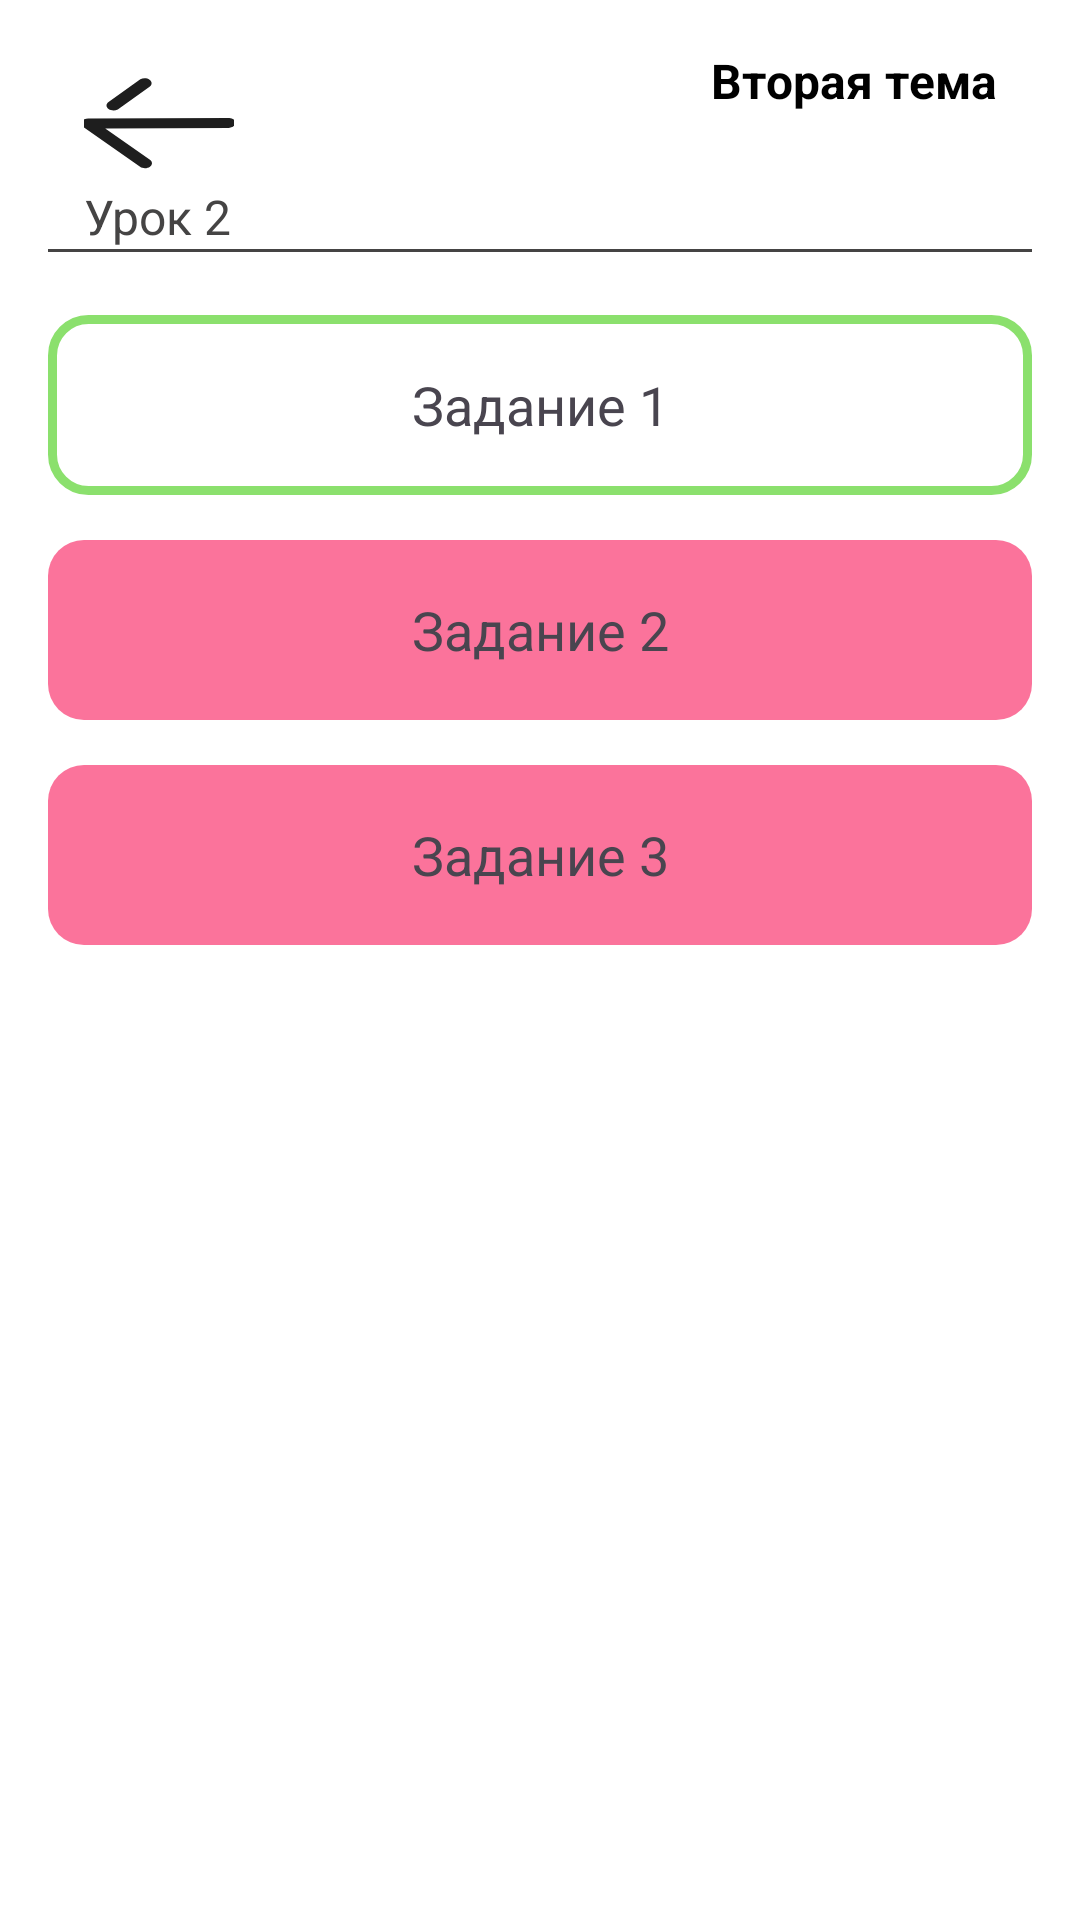

Locate icon controls on the screen. Image size 1080 × 1920, boxes as (x1, y1, x2, y2).
strelka: (84, 78, 234, 169)
